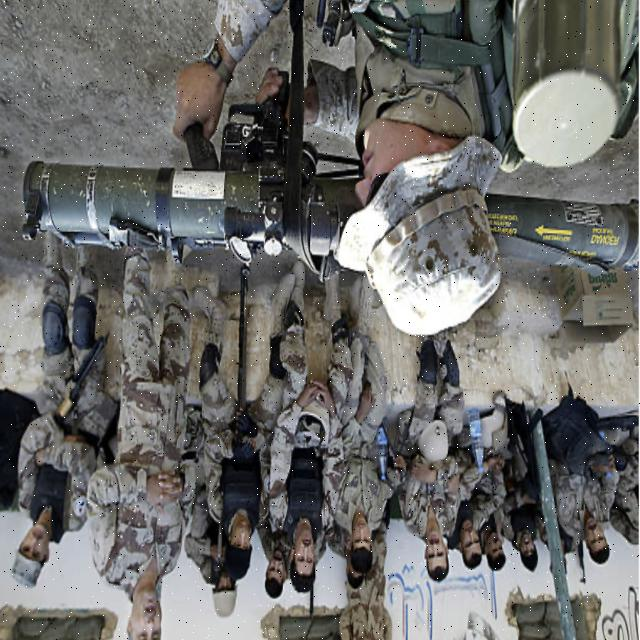bazooka: (22, 152, 640, 279)
